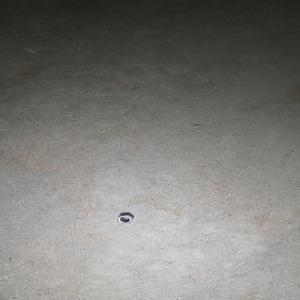Nut: (114, 213, 132, 223)
